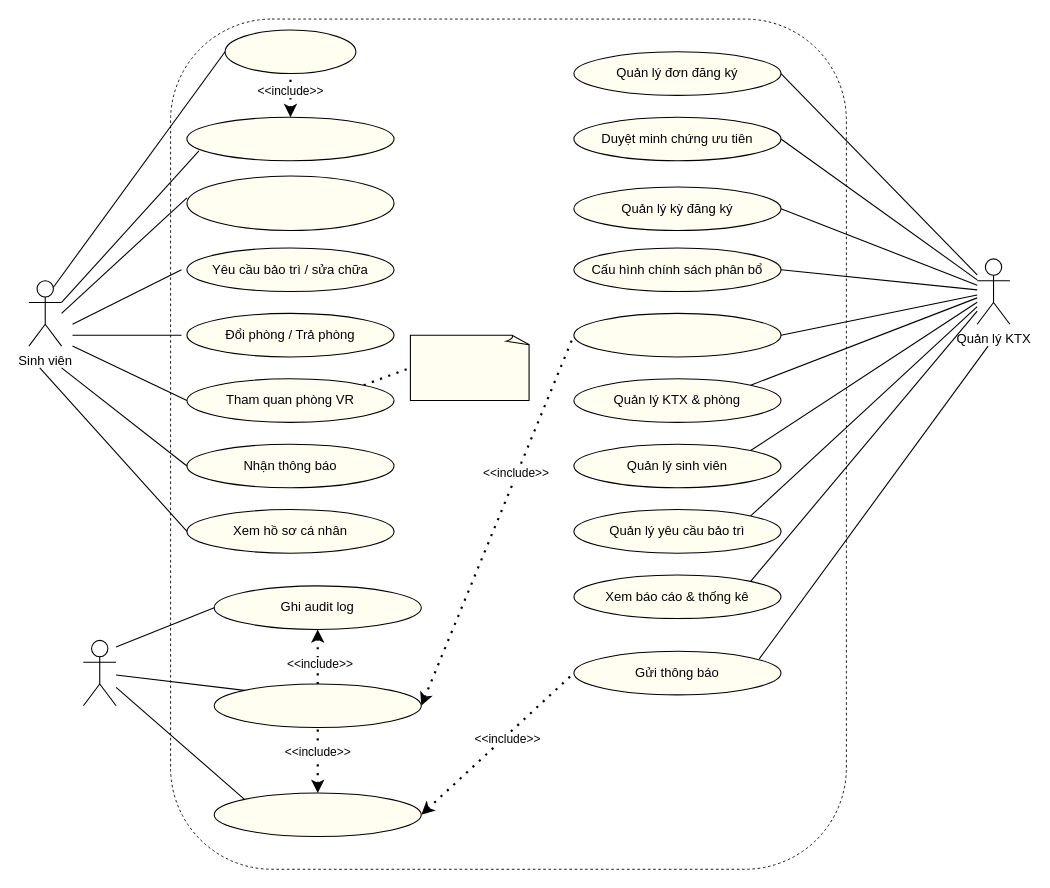
This 1050x888 diagram has some shape labels left out. Here are the shapes that lost their labels. From the top down, the centre of each, then its label:
[290,51]: Đăng ký chỗ ở KTX
[290,138]: Nộp minh chứng ưu tiên
[290,203]: Xem xếp hạng & kết quả phân bổ
[677,334]: Mô phỏng và thực thi phân bổ
[469,367]: Xem mô hình 3D phòng ở trước khi đăng ký
[99,672]: Hệ thống
[317,705]: Phân bổ tự động
[317,814]: Gửi thông báo realtime
